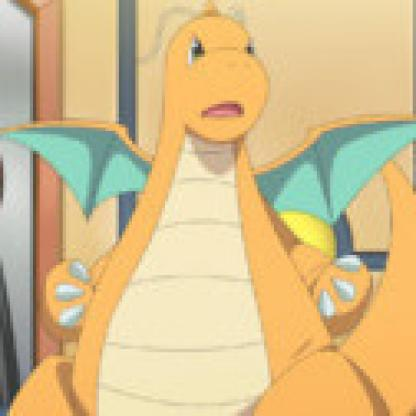Dragonite: (24, 1, 414, 414)
